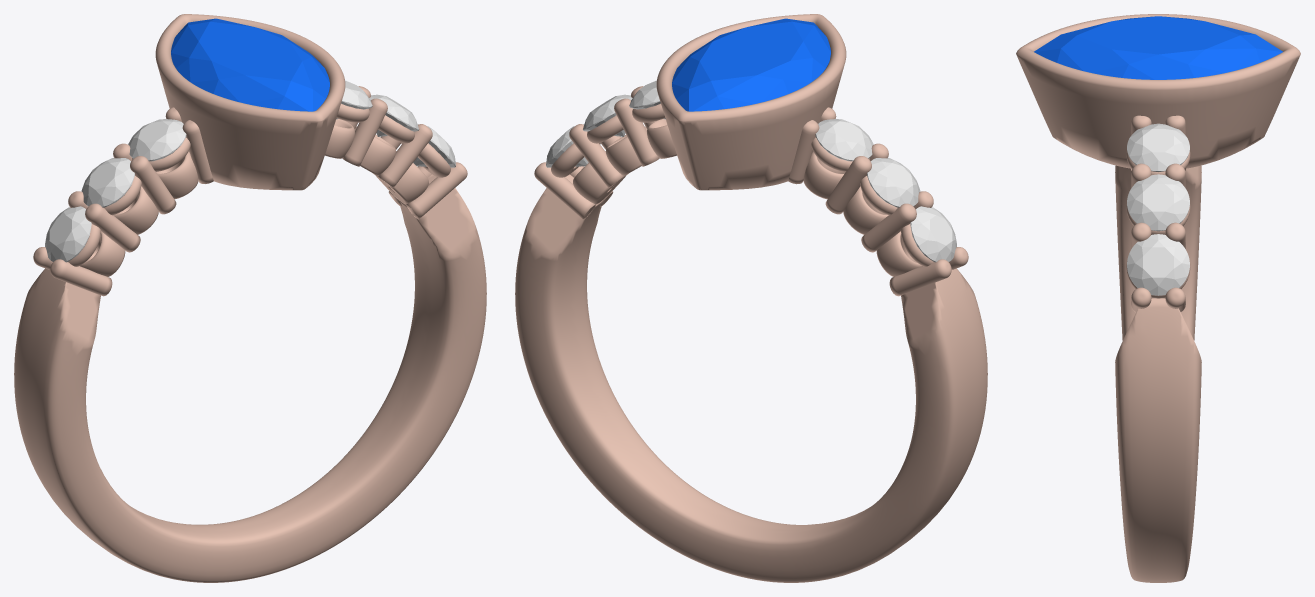
File: bluesapphire-marquise-rosegold-bezelset-straighttaperedband-7stone.glb
3 views of the same model, side by side, from view 1: azimuth 30°, elevation 25°; view 2: azimuth 150°, elevation 25°; view 3: azimuth 270°, elevation 25° (orthographic).
Visible parts, largest first — view 1: metal.002, stone.001, dia.002, dia.015, dia.016, dia.018; view 2: metal.002, stone.001, dia.002, dia.015, dia.016, dia.018; view 3: metal.002, stone.001, dia.017, dia.018, dia.019.
Boxes of the visible parts, x1,y1,x2,y2 form: metal.002: (14,14,486,582); stone.001: (171,18,329,111); dia.002: (45,206,91,262); dia.015: (81,158,134,207); dia.016: (128,119,186,161); dia.018: (369,94,419,136); metal.002: (515,14,987,582); stone.001: (672,18,830,111); dia.002: (910,206,956,262); dia.015: (867,158,920,207); dia.016: (815,119,873,161); dia.018: (582,94,632,136); metal.002: (1016,14,1300,582); stone.001: (1034,16,1282,79); dia.017: (1127,234,1189,295); dia.018: (1127,174,1189,231); dia.019: (1127,123,1189,171).
Bounding box in the file's own units: 20.5 × 22.93 × 11.31.
